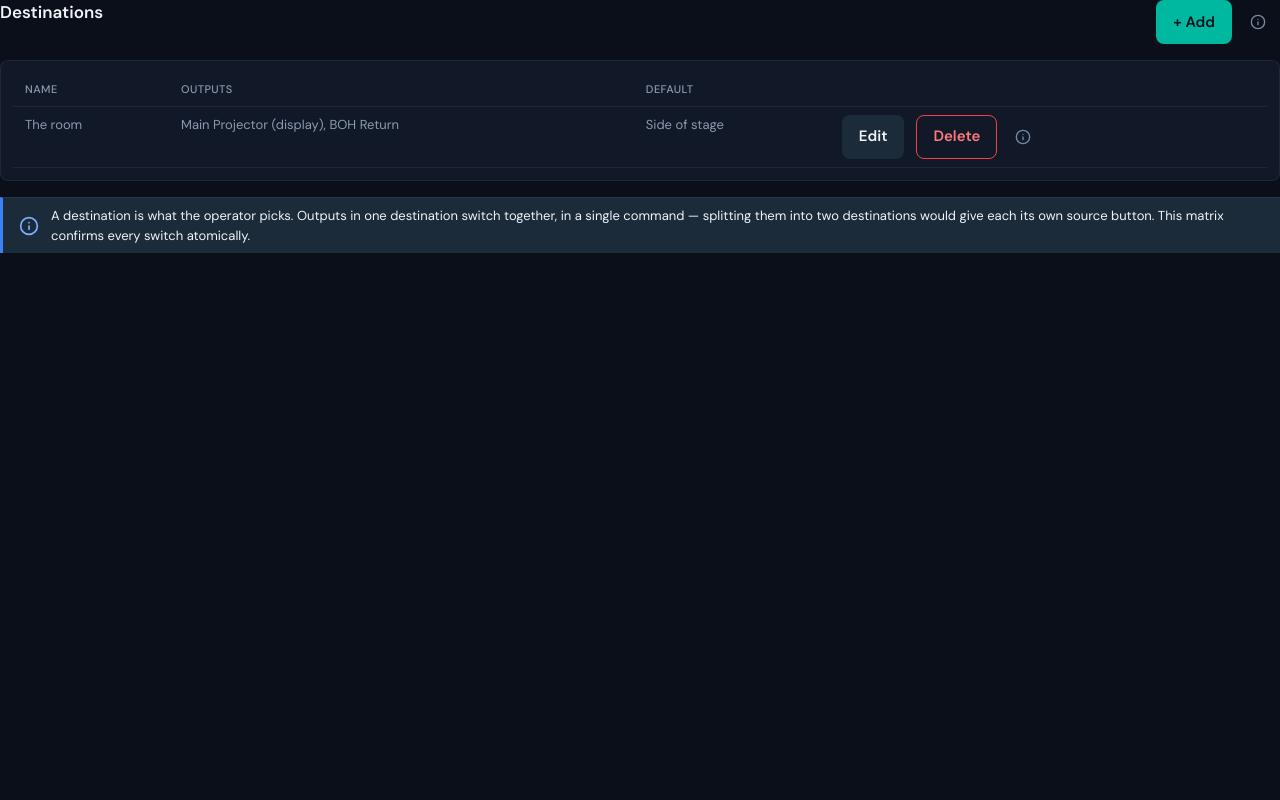
Scenario: DestinationsSection › offers reload or overwrite on a version conflict
The width and height of the screenshot is (1280, 800).
Click the button "Edit" at (873,136), box [842,114,904,158]
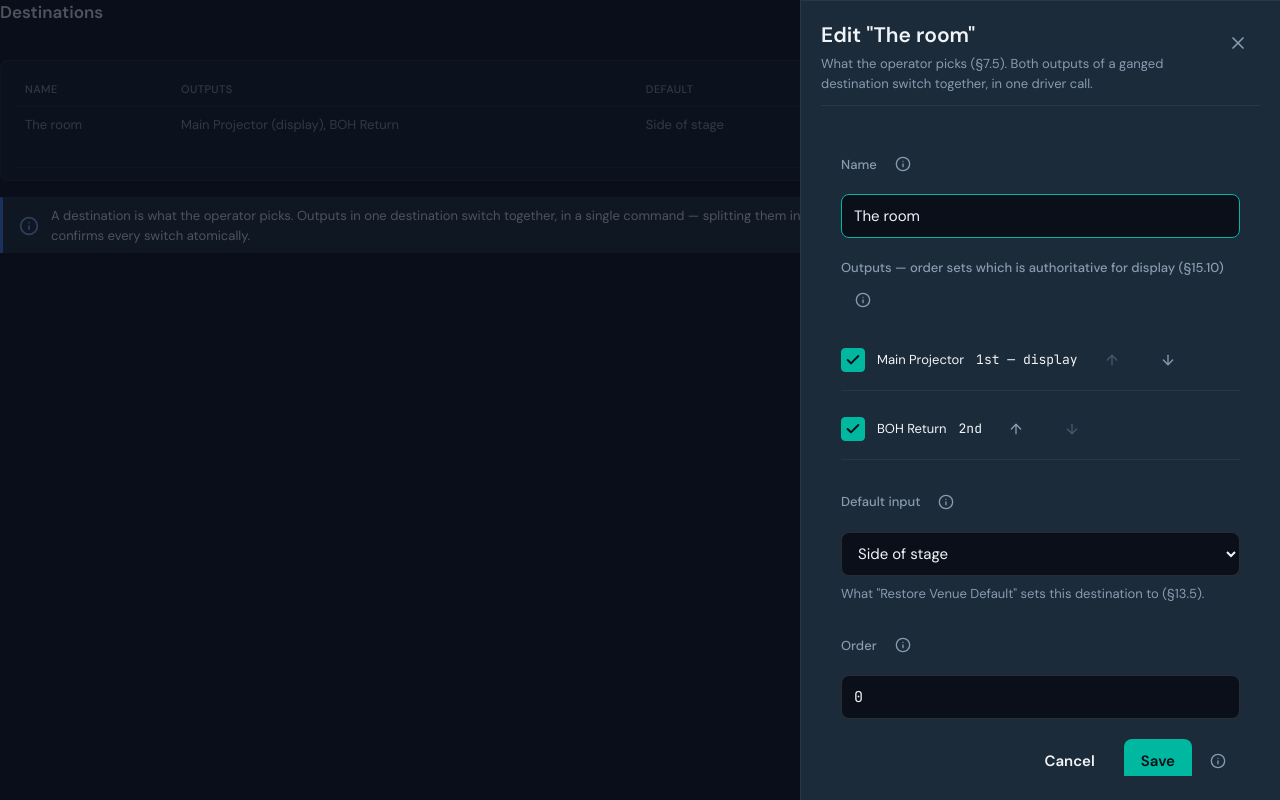
Replace the text in the field labelled "Name" with "Mine" at (1040,216), box [841,194,1240,238]
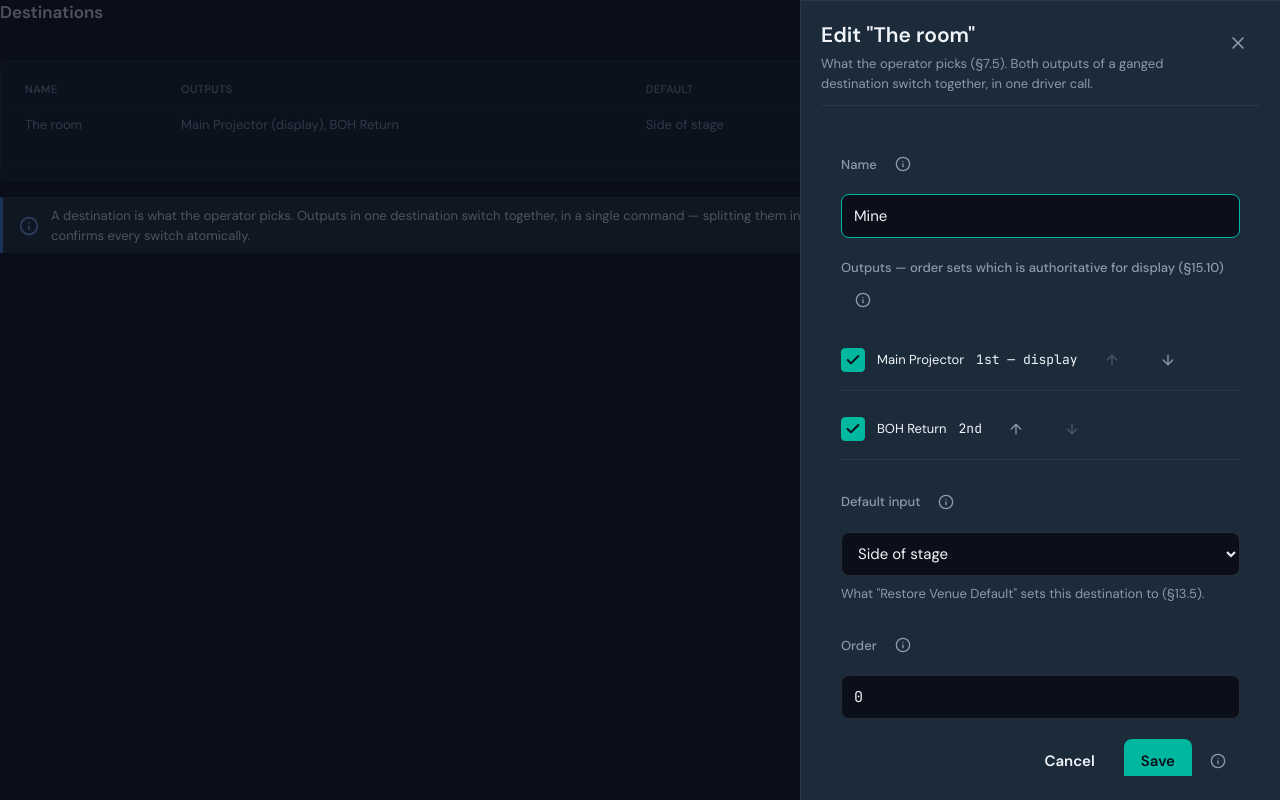
Click the button "Save" at (1158,761), box [1124,739,1192,783]
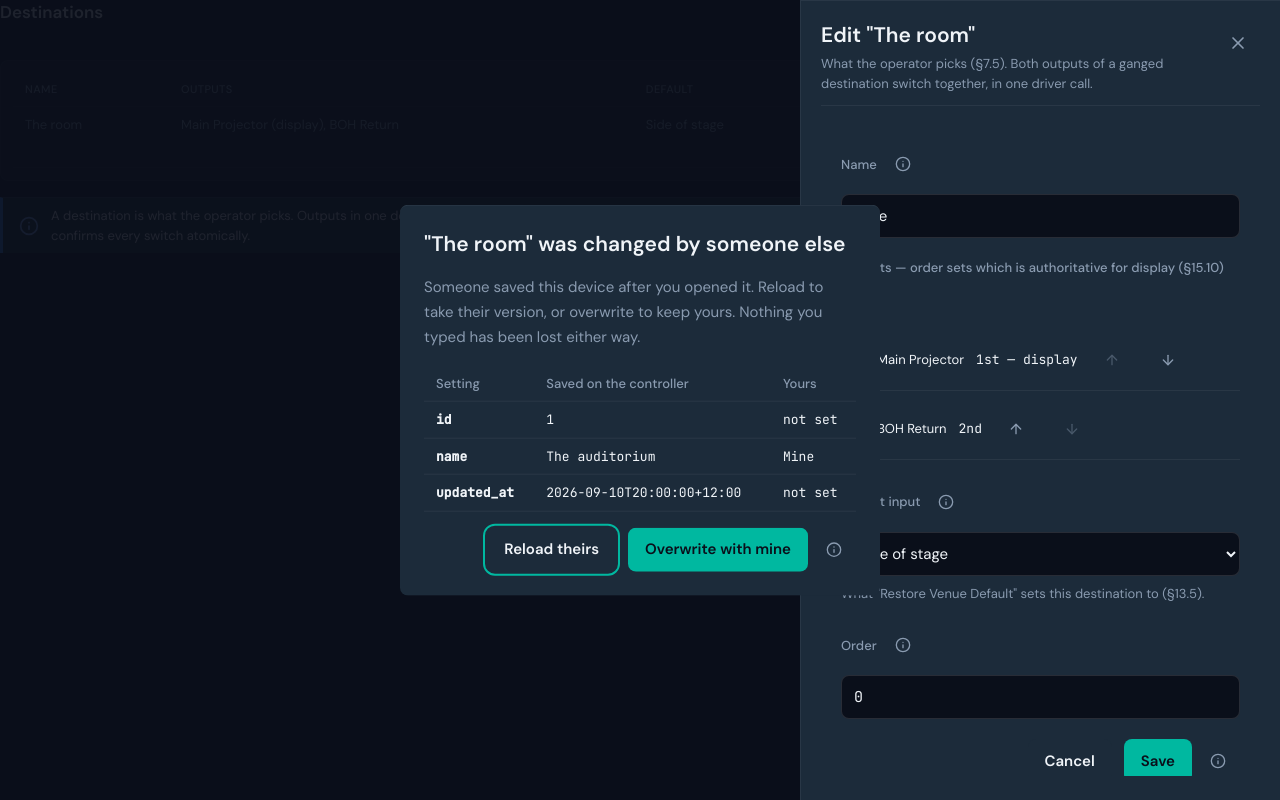
Expected: the heading "\"The room\" was changed by someone else" is shown, [424,230,856,259]
Expected: the text "The auditorium" is shown, [534,438,771,474]
Expected: the button "Overwrite with mine" is shown, [628,527,808,571]
